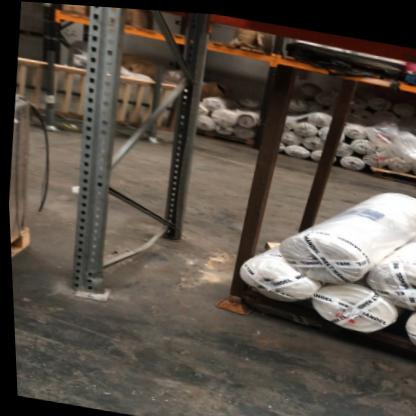vertical_damage: (63, 262, 116, 306)
